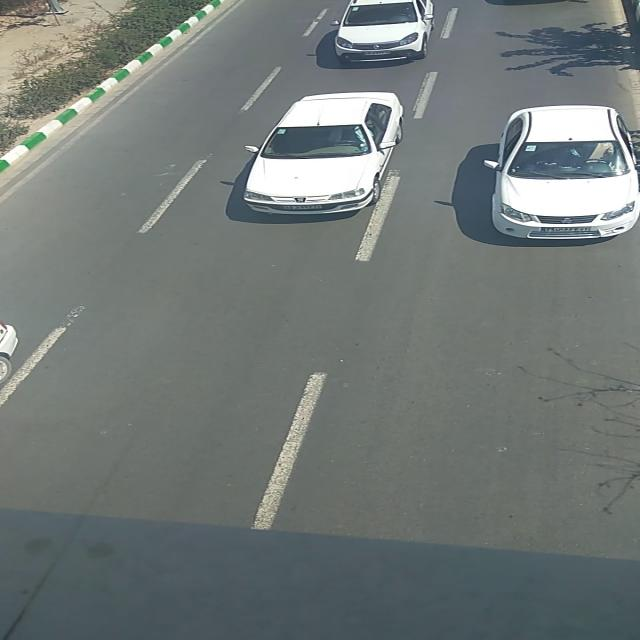car: (482, 105, 640, 240), (242, 92, 404, 216), (332, 1, 437, 62)
